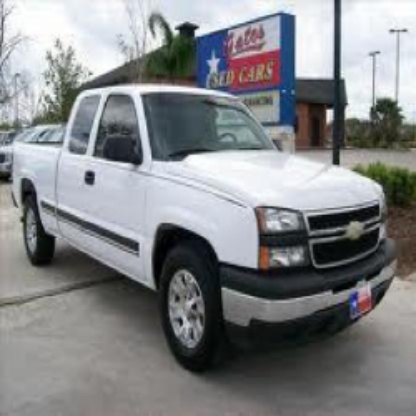Vehicle: (11, 83, 400, 382)
